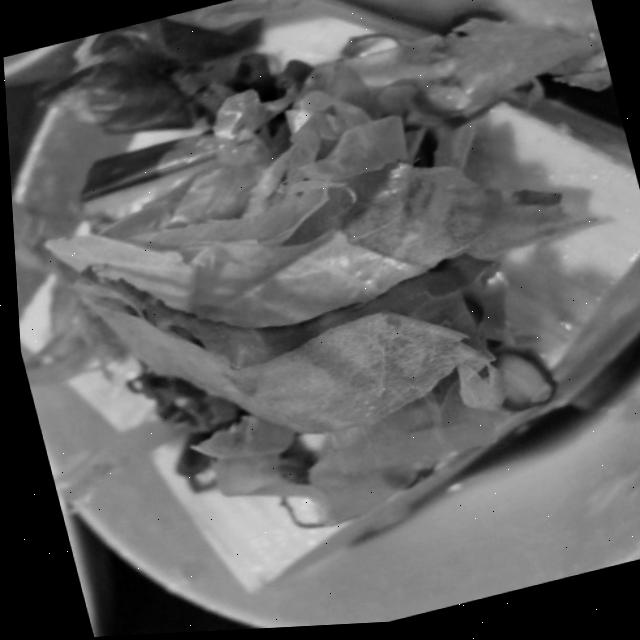豆腐料理: (0, 0, 640, 631)
